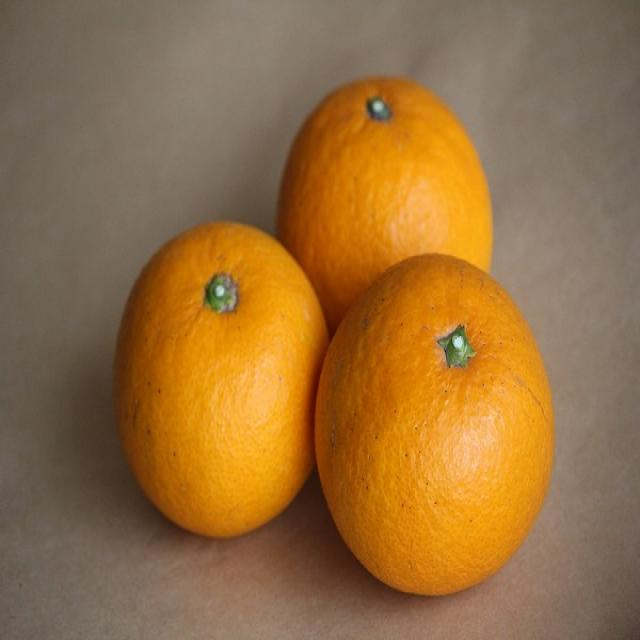Orange: (314, 251, 552, 597), (110, 223, 328, 542), (276, 71, 489, 344)
